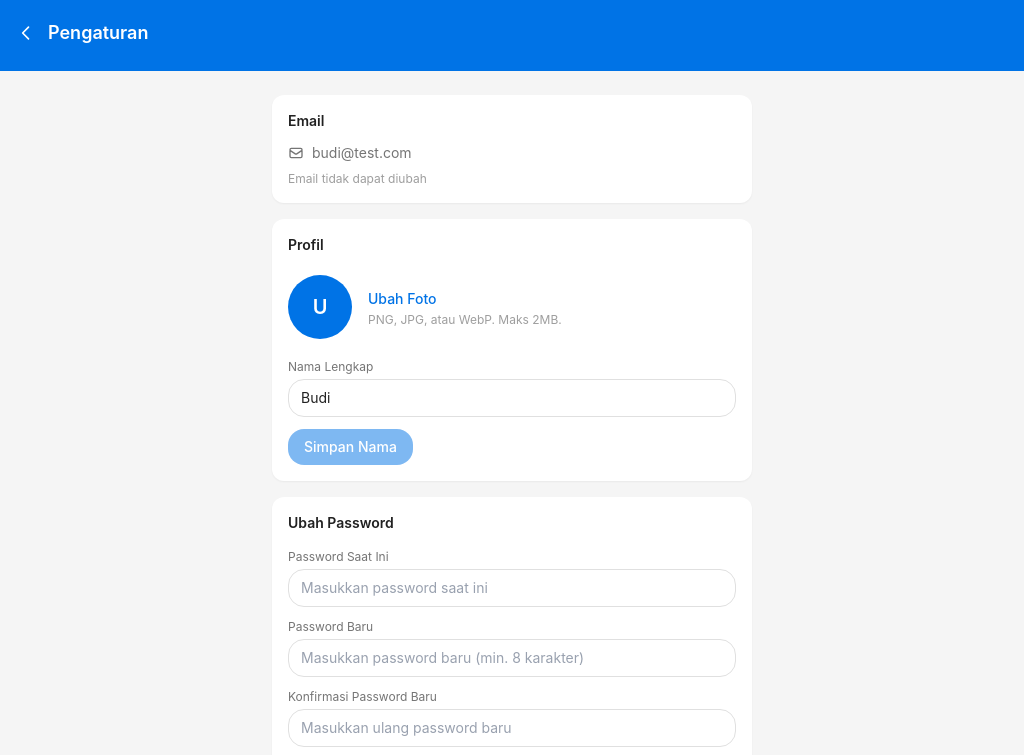
Settings page, password change › says the password changed and signs the person out to /login after 1.5 seconds
Type "password-lama-1" into the password field labelled "Password Saat Ini" at (512, 588), box top-left (288, 569), bottom-right (736, 607)
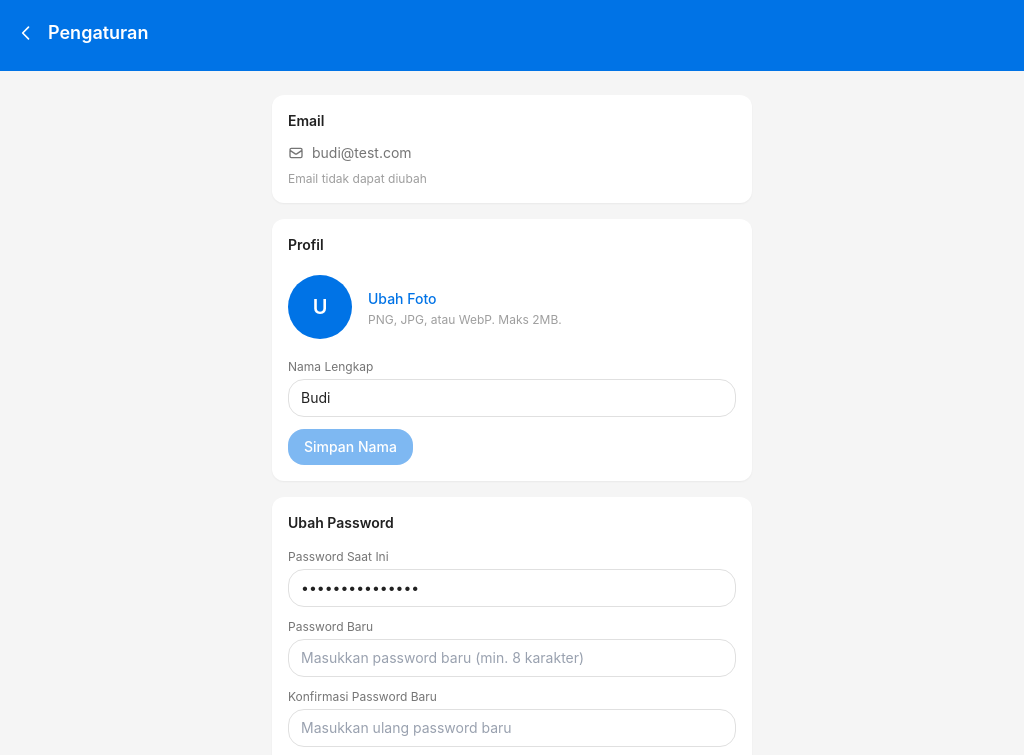
Type "password-baru-123" into the password field labelled "Password Baru" at (512, 658), box top-left (288, 639), bottom-right (736, 677)
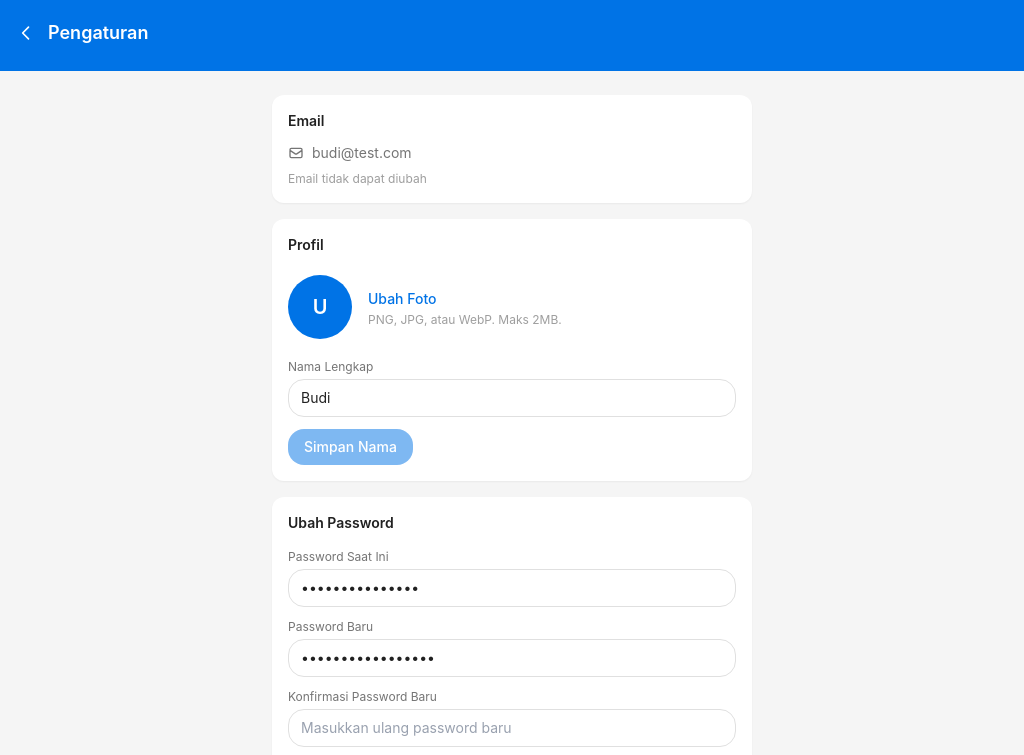
Type "password-baru-123" into the password field labelled "Konfirmasi Password Baru" at (512, 728), box top-left (288, 709), bottom-right (736, 747)
(page scrolled)
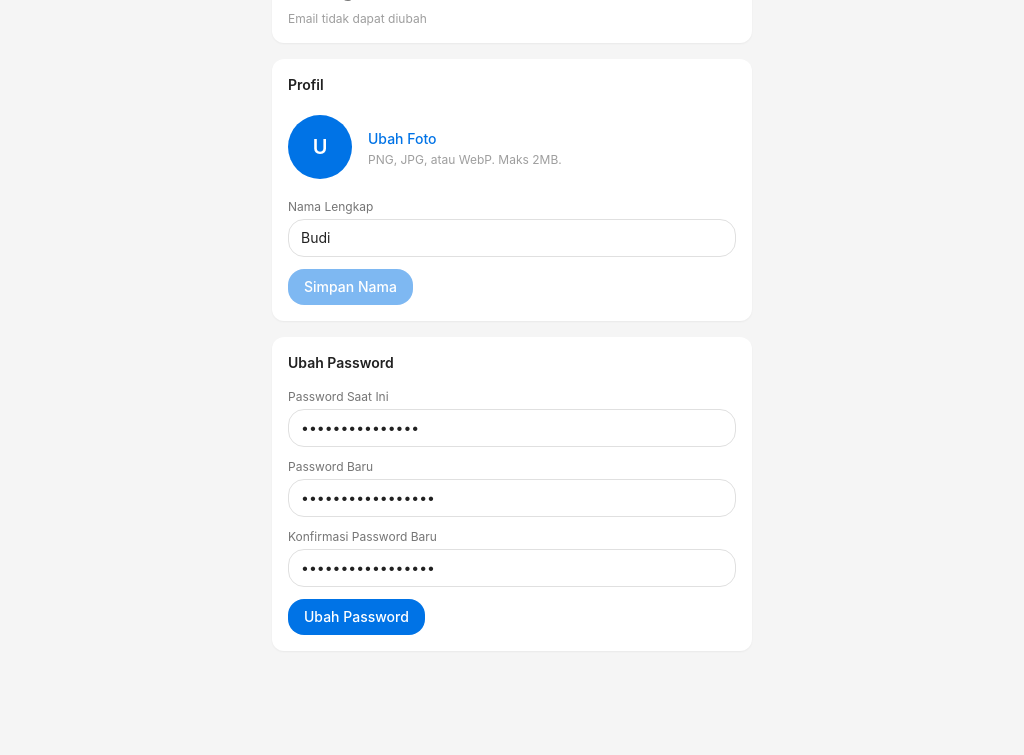
Click the button "Ubah Password" at (356, 617), box top-left (288, 599), bottom-right (425, 635)
Wait 1500 ms
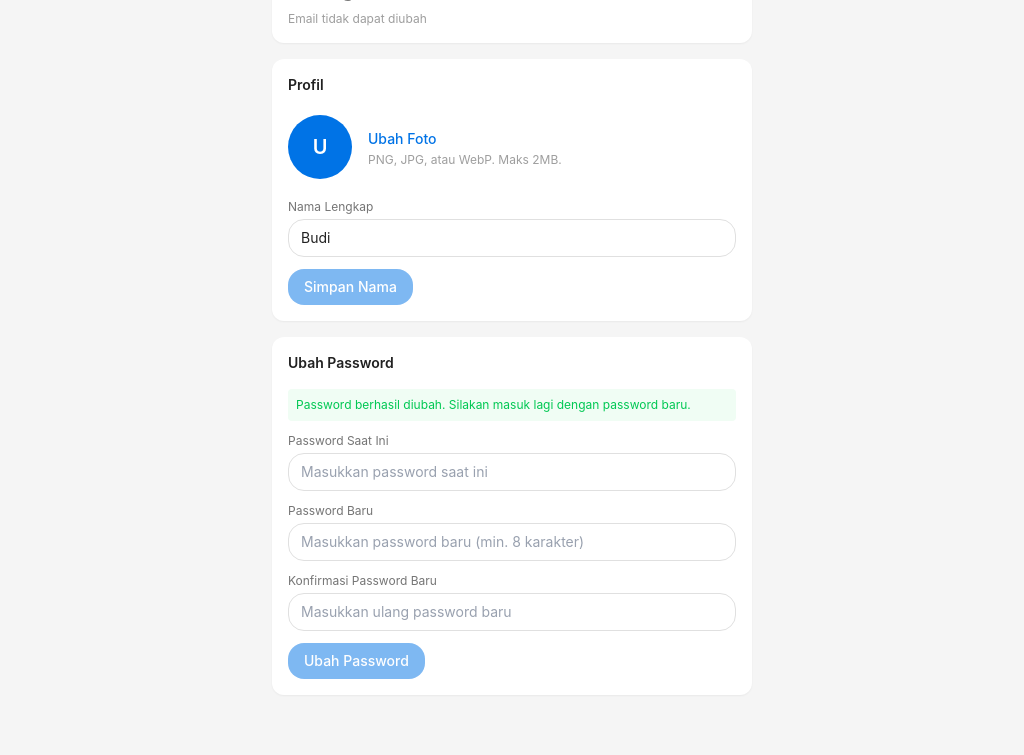
Check: the text "Password berhasil diubah. Silakan masuk lagi" is shown, box top-left (296, 397), bottom-right (691, 412)
